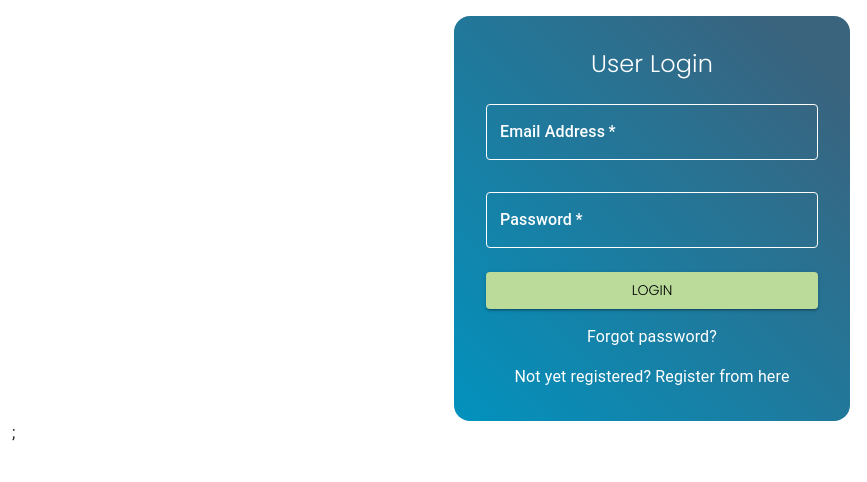
Scenario: shows error message If password not entered
Type "test@gmail.com" into the field labelled "Email Address *" at (652, 132), box [486,104,818,160]
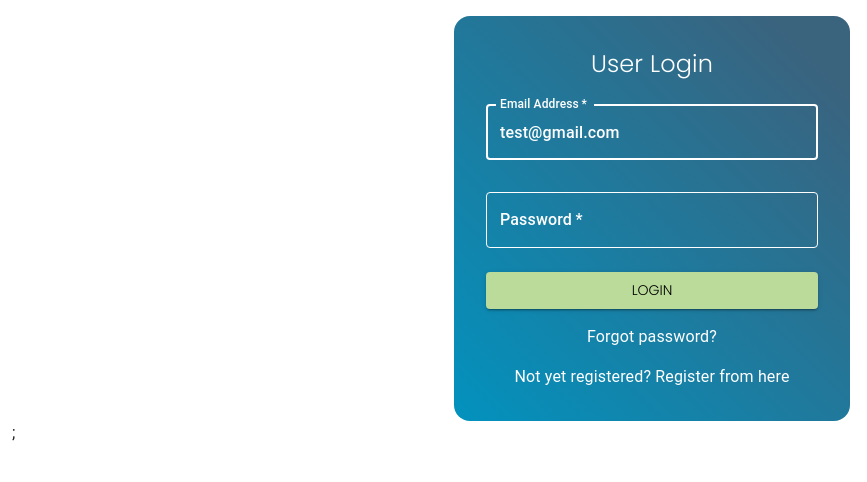
Click the button "Login" at (652, 290), box [486,272,818,308]
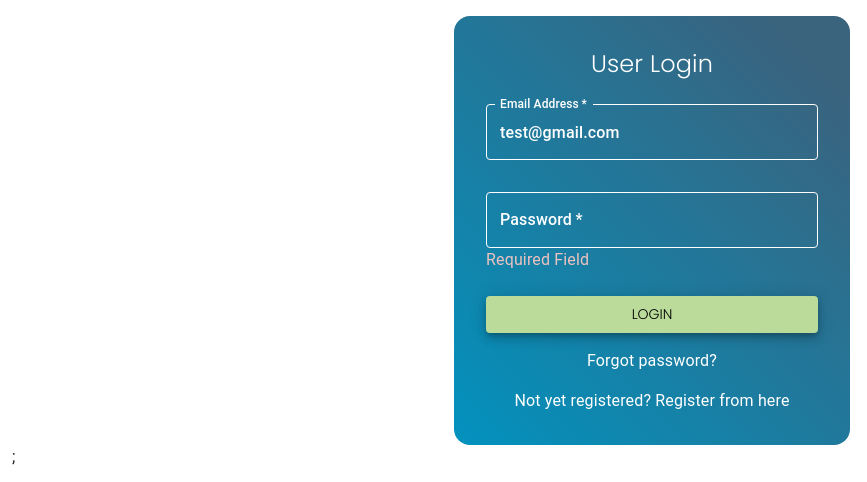
Check: the text with test id "err-pwd" reads "Required Field", box [486,250,589,269]
